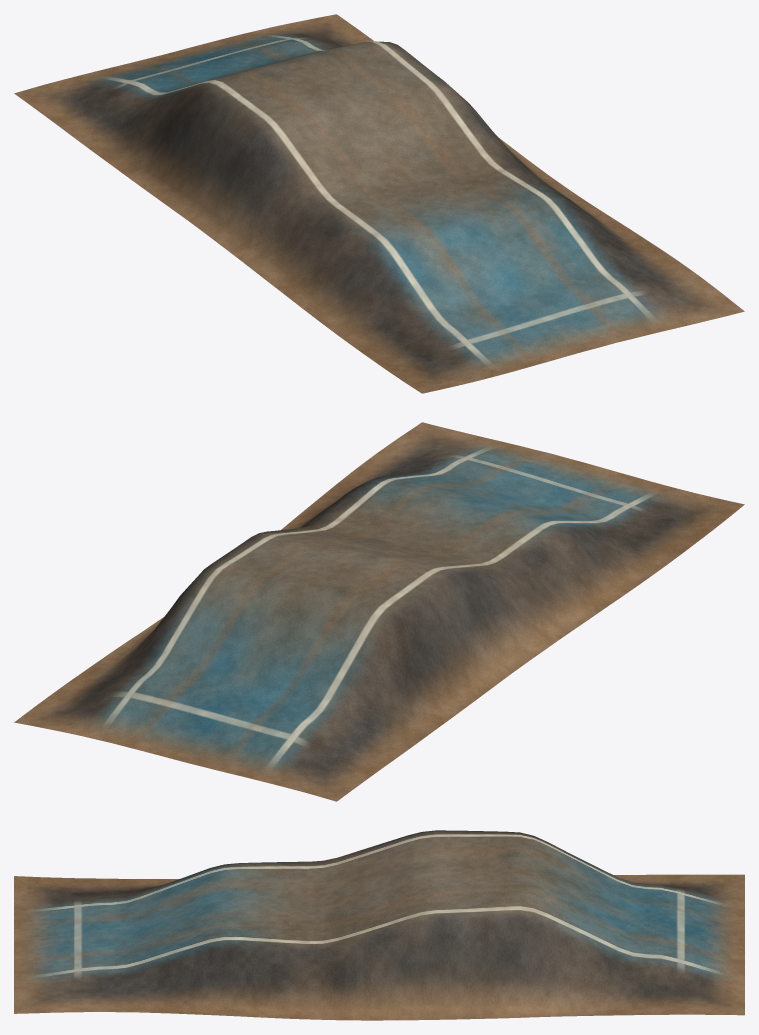
File: EastStepUp.obj
3 views of the same model, one above another, from view 1: azimuth 30°, elevation 25°; view 2: azimuth 150°, elevation 25°; view 3: azimuth 270°, elevation 25° (orthographic). The views are drawn at different scales.
Parts seen in each view (by area): view 1: EastStepUp; view 2: EastStepUp; view 3: EastStepUp.
Part boxes in pixels (x1,y1,x2,y2): EastStepUp: (14,14,744,393); EastStepUp: (14,422,744,801); EastStepUp: (14,830,744,1020).
Bounding box in the file's own units: 10.5 × 2.76 × 23.
1 material, 1 textured.
